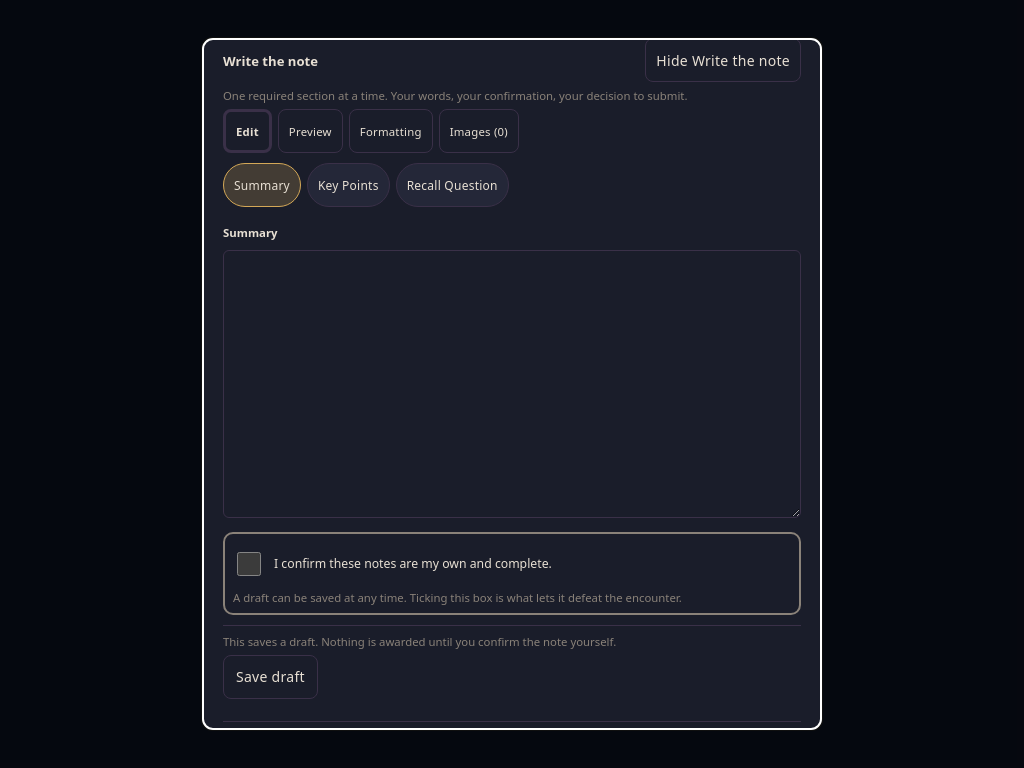
Test: exit criterion 1: existing validation output is unchanged › turns the same checklist into failures once the learner has edited
This screenshot has width=1024, height=768.
(page scrolled)
Expected: the text "Not met" is not shown
Type "Matrix" into the text box labelled "Summary" at (512, 384), box [223,250,801,518]
(page scrolled)
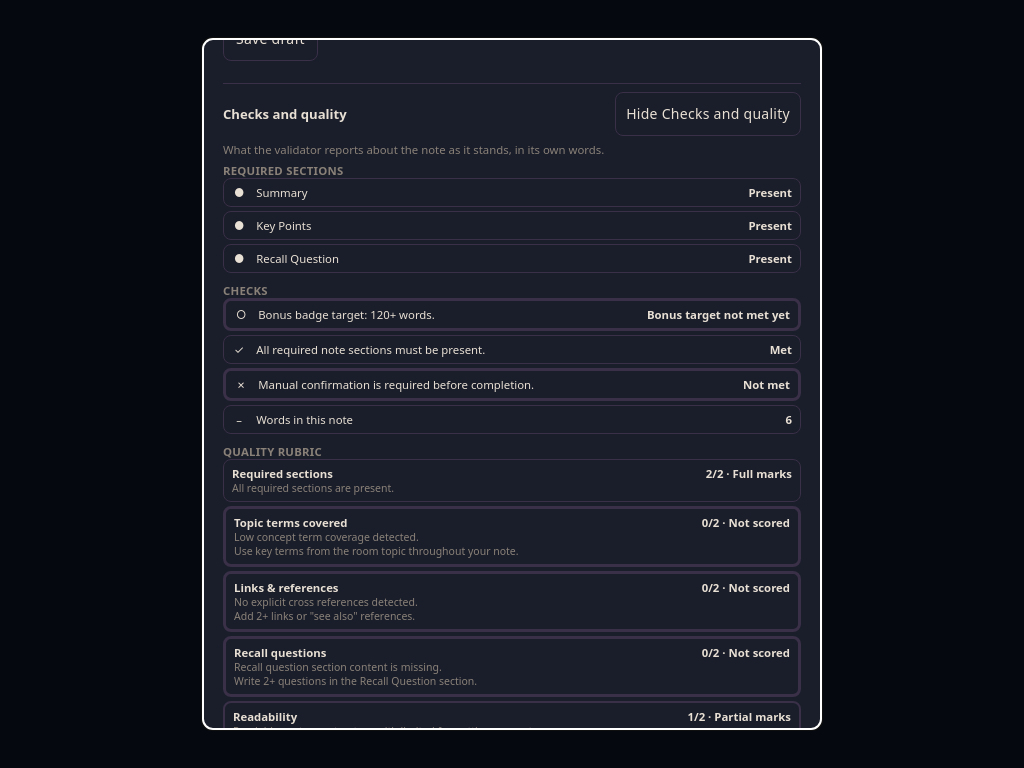
Result: the text "Not met" is shown at [743,377,790,392]
Result: the text "Manual confirmation is required before completion." is shown at [258,377,534,392]
